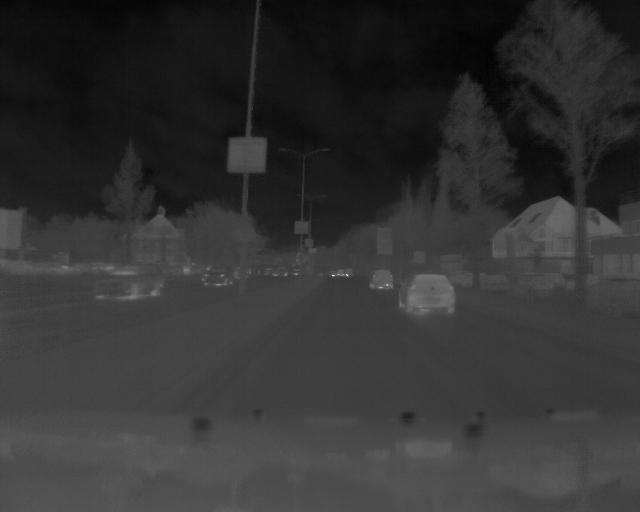car: (90, 264, 170, 299), (397, 270, 457, 316), (201, 263, 237, 287), (365, 267, 396, 294)
